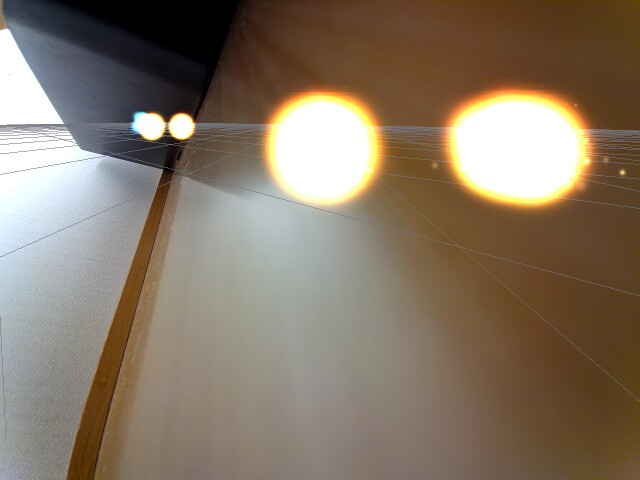firebig: (436, 72, 595, 221)
